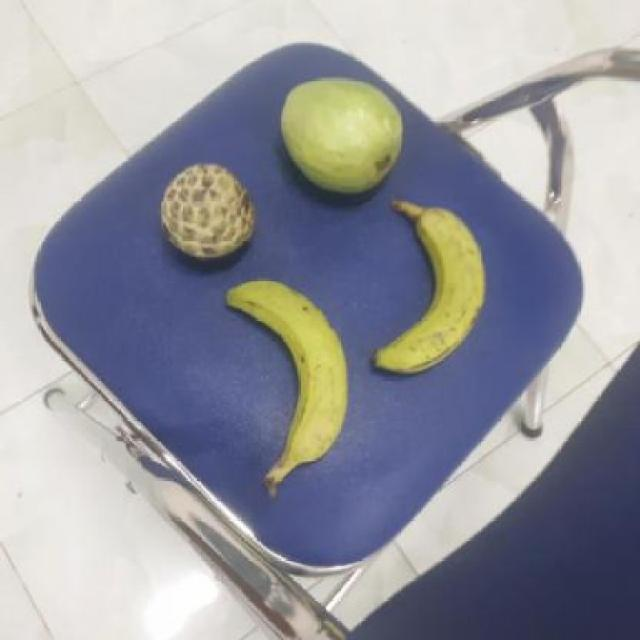banana: (222, 278, 349, 470), (362, 199, 487, 370)
guava: (276, 74, 406, 197)
sugar apple: (155, 163, 254, 260)
